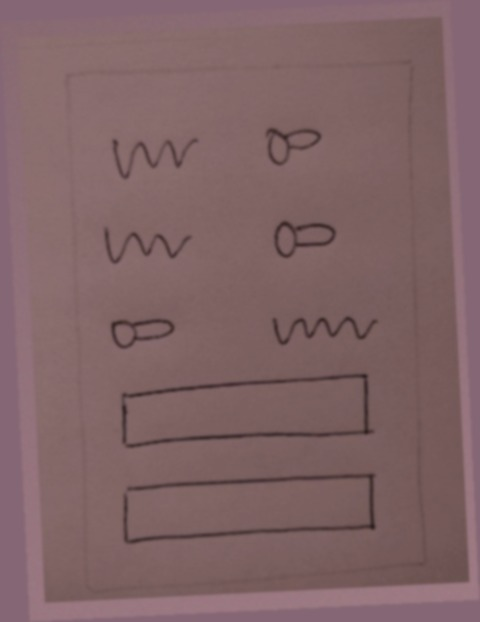switch: (104, 305, 183, 363), (258, 116, 328, 175), (266, 214, 343, 264)
text: (264, 302, 383, 355), (98, 217, 200, 269), (104, 133, 201, 180)
text_input: (109, 370, 387, 460), (114, 466, 385, 558)
